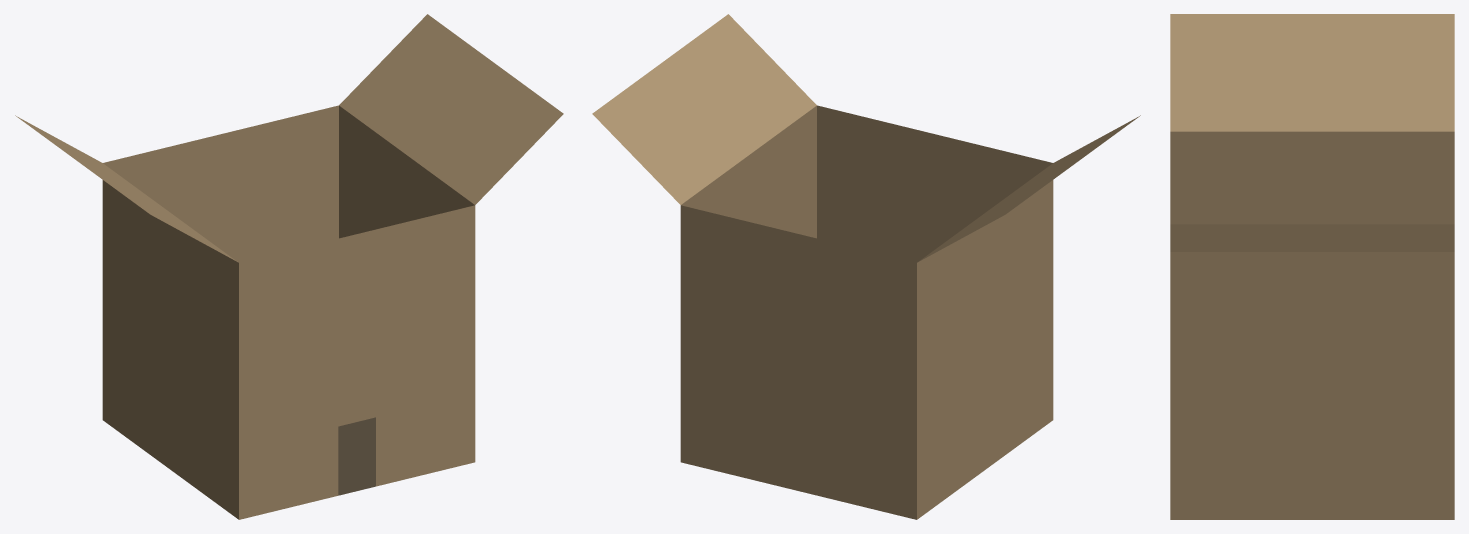
Rendered from cardboardBoxOpen.glb.
3 renders of one model, left to right at view 1: azimuth 30°, elevation 25°; view 2: azimuth 150°, elevation 25°; view 3: azimuth 270°, elevation 25°, orthographic. The views are drawn at different scales.
Parts seen in each view (by area): view 1: cardboardBoxOpen(Clone); view 2: cardboardBoxOpen(Clone); view 3: cardboardBoxOpen(Clone).
Part boxes in pixels (x1=…): cardboardBoxOpen(Clone): x1=15, y1=14, x2=563, y2=519; cardboardBoxOpen(Clone): x1=592, y1=14, x2=1140, y2=519; cardboardBoxOpen(Clone): x1=1170, y1=14, x2=1454, y2=519.
Size of the model in its own units: 0.3719 by 0.281 by 0.2125.
